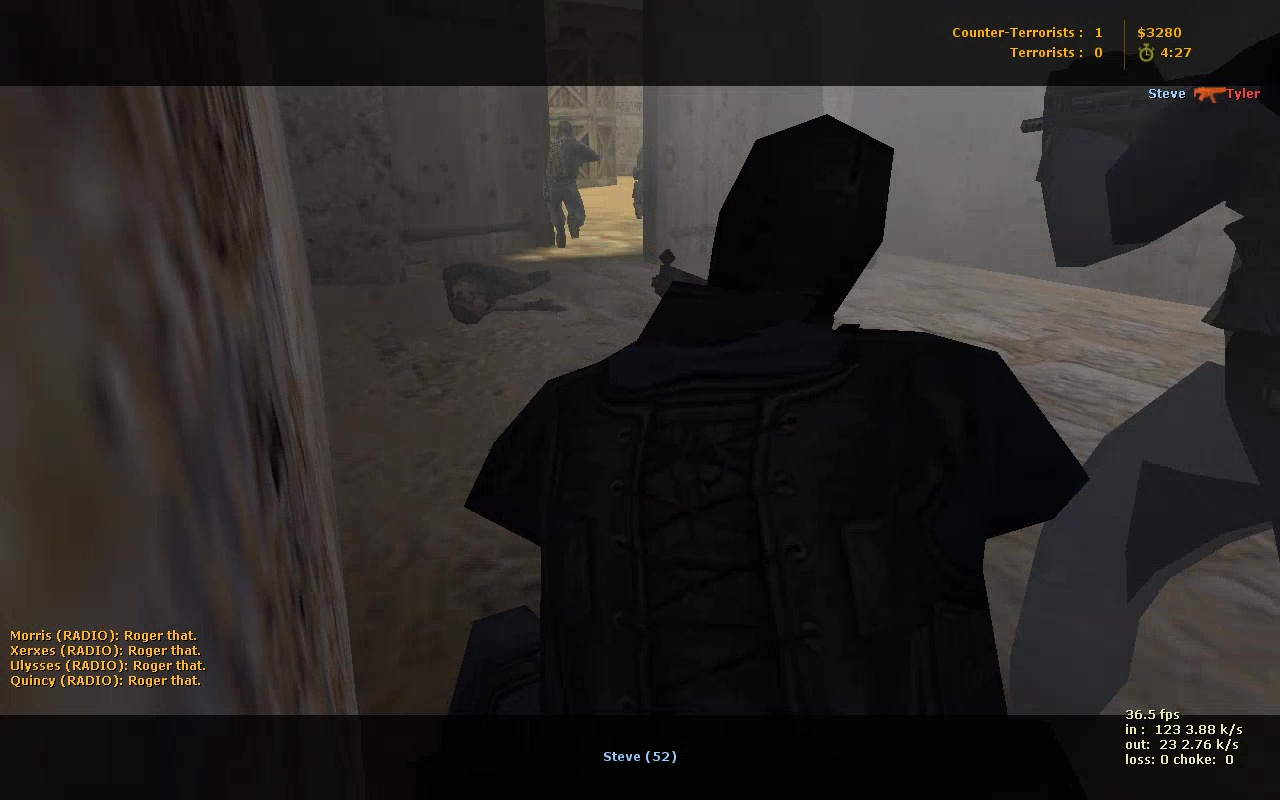ct: (539, 119, 602, 249)
dead: (438, 260, 570, 324)
